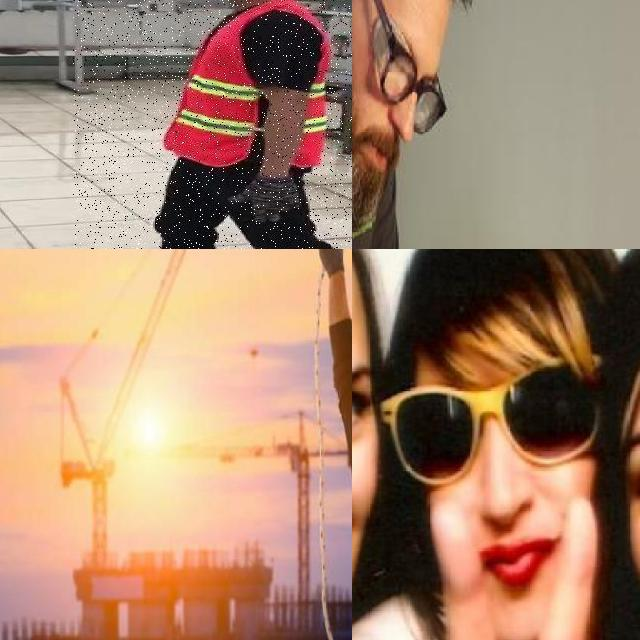face_nomask: (396, 379, 607, 586), (356, 30, 446, 194)
glasses: (378, 362, 604, 492), (352, 0, 446, 135)
hand_noglove: (428, 486, 600, 640)
head_nohelmet: (398, 249, 602, 382)
person: (73, 0, 352, 249), (352, 0, 483, 249)
vest: (166, 0, 330, 170)
